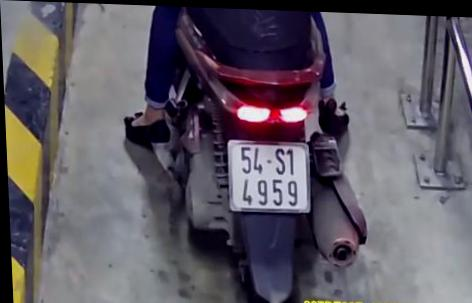License_Plate: (212, 132, 321, 222)
